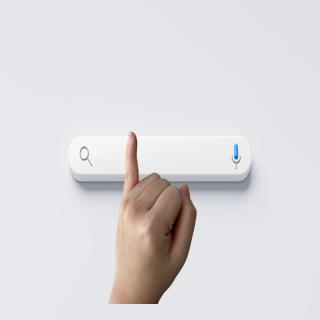Fine: (94, 129, 205, 296)
